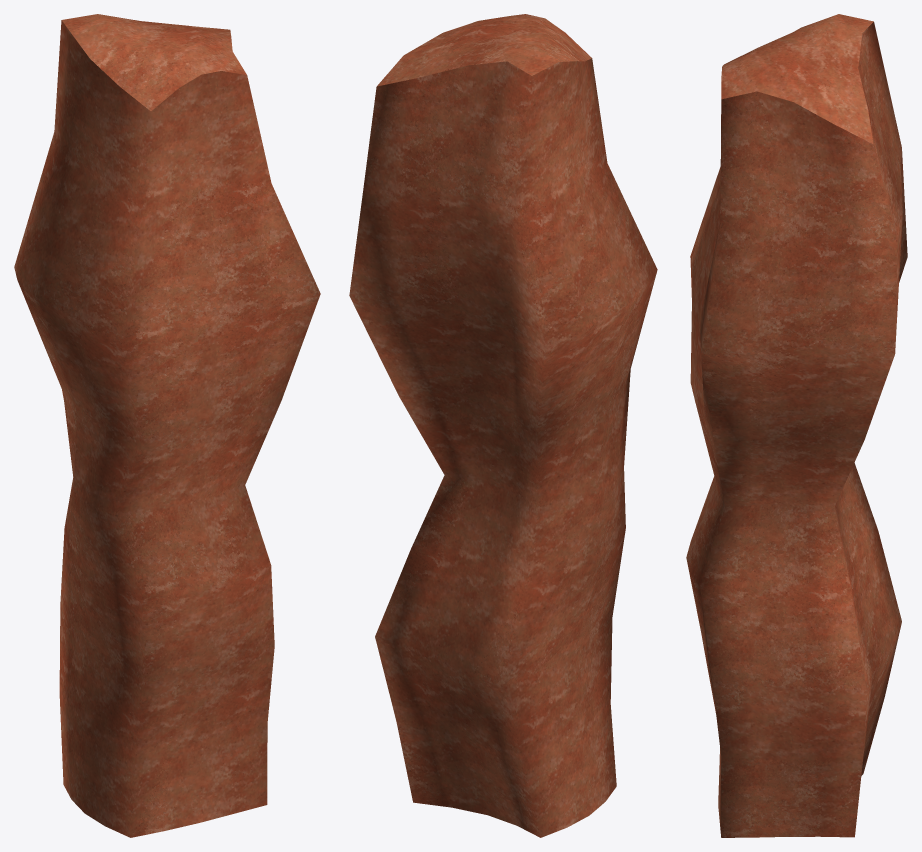
File: SM_BGPillar.fbx
3 views of the same model, side by side, from view 1: azimuth 30°, elevation 25°; view 2: azimuth 150°, elevation 25°; view 3: azimuth 270°, elevation 25° (orthographic).
Parts seen in each view (by area): view 1: pCube1; view 2: pCube1; view 3: pCube1.
Part boxes in pixels (x1,y1,x2,y2): pCube1: (14,14,320,837); pCube1: (349,14,657,837); pCube1: (686,14,907,837).
Size of the model in its own units: 2143 by 6613 by 1740.
1 material, 1 textured.
